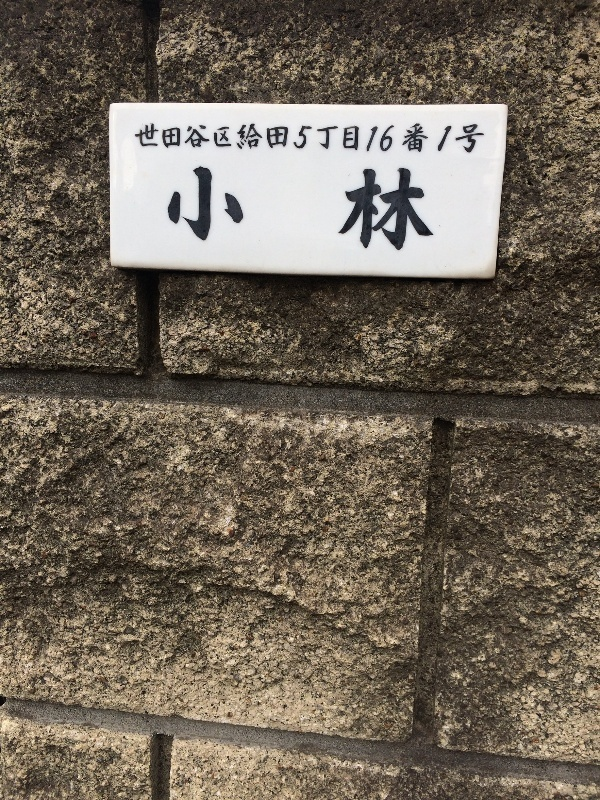text: (177, 165, 192, 253), (193, 165, 208, 253), (209, 165, 224, 253), (225, 165, 240, 253), (241, 165, 256, 253), (257, 165, 272, 253), (273, 165, 288, 253), (289, 165, 304, 253), (305, 165, 320, 253), (321, 165, 336, 253), (337, 165, 352, 253), (353, 165, 368, 253), (369, 165, 384, 253), (385, 165, 400, 253), (401, 165, 416, 253), (417, 165, 432, 253), (169, 165, 176, 253), (145, 124, 160, 155), (161, 124, 176, 155), (177, 124, 192, 155), (193, 124, 208, 155), (209, 124, 224, 155), (225, 124, 240, 155), (241, 124, 256, 155), (257, 124, 272, 155), (273, 124, 288, 155), (289, 124, 304, 155), (305, 124, 320, 155), (321, 124, 336, 155), (337, 124, 352, 155), (353, 124, 368, 155), (369, 124, 384, 155), (385, 124, 400, 155), (401, 124, 416, 155), (417, 124, 432, 155), (433, 124, 448, 155), (449, 124, 464, 155), (465, 124, 480, 155), (135, 124, 144, 155), (433, 165, 435, 253), (481, 124, 486, 155)
